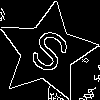S: (22, 27, 73, 84)
